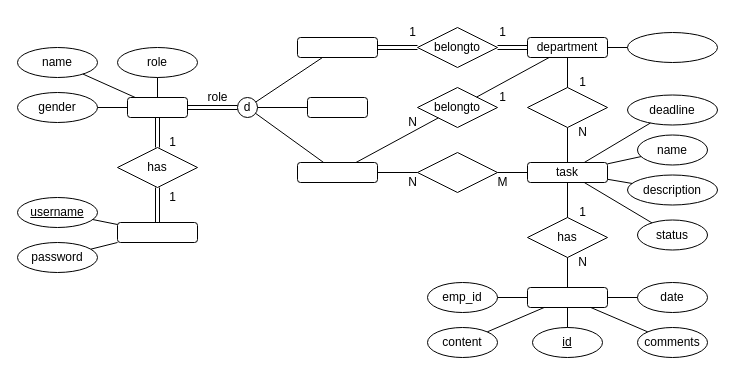
The diagram is 735 pixels wide and 375 high, and some of its shapes have lost their labels. Each missing label, with the box of its shape:
account: (116, 222, 198, 242)
director: (306, 96, 368, 118)
do: (416, 152, 498, 192)
dp_head: (296, 36, 378, 58)
dp_name: (626, 32, 718, 62)
employee: (296, 162, 378, 182)
includes: (526, 86, 608, 128)
submission: (526, 286, 608, 308)
user: (126, 96, 188, 118)
